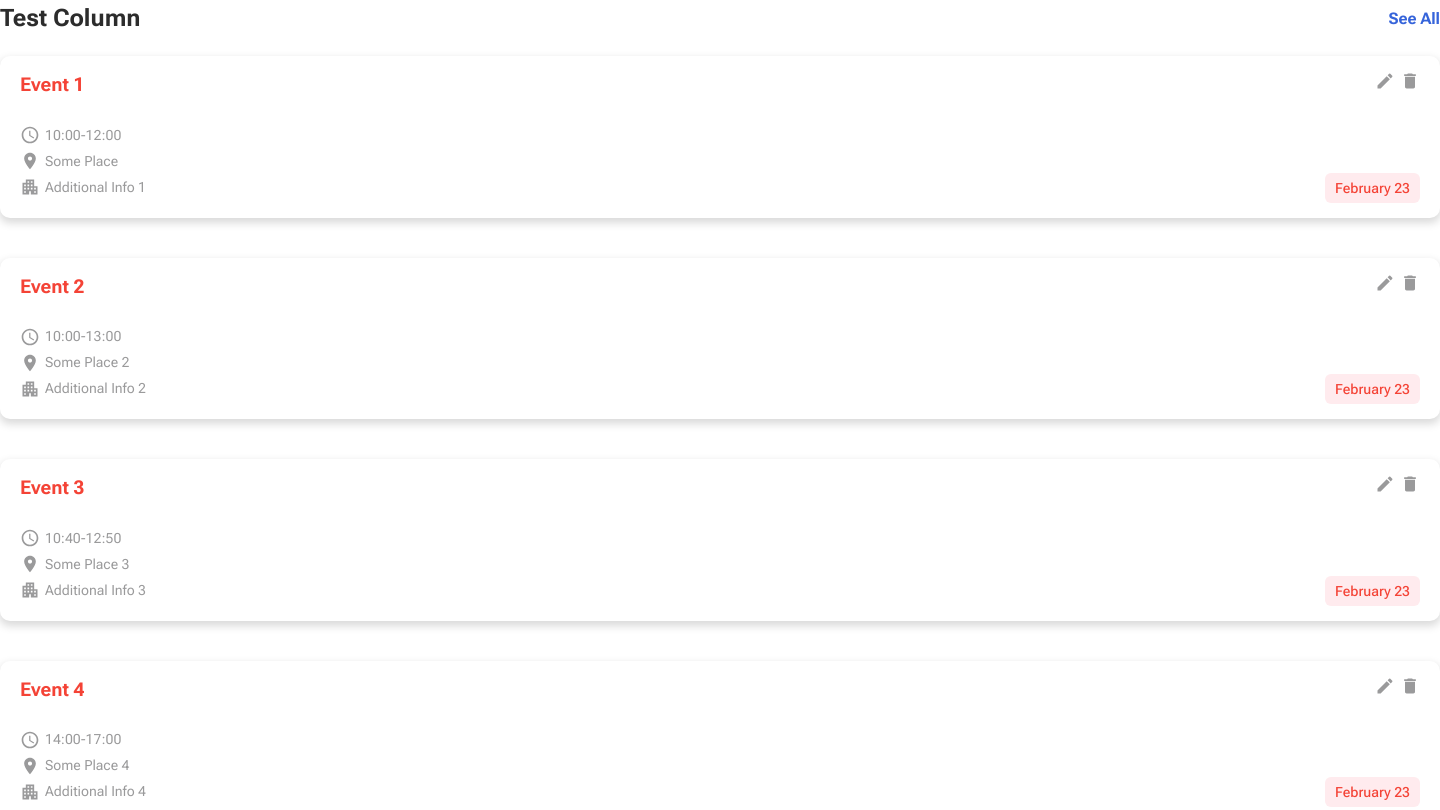
Scenario: EventListColumn › shows remove event modal when remove button is clicked
The width and height of the screenshot is (1440, 810).
Click the button with test id "remove-button-1". click: (1410, 81)
box: [1400,71,1420,91]
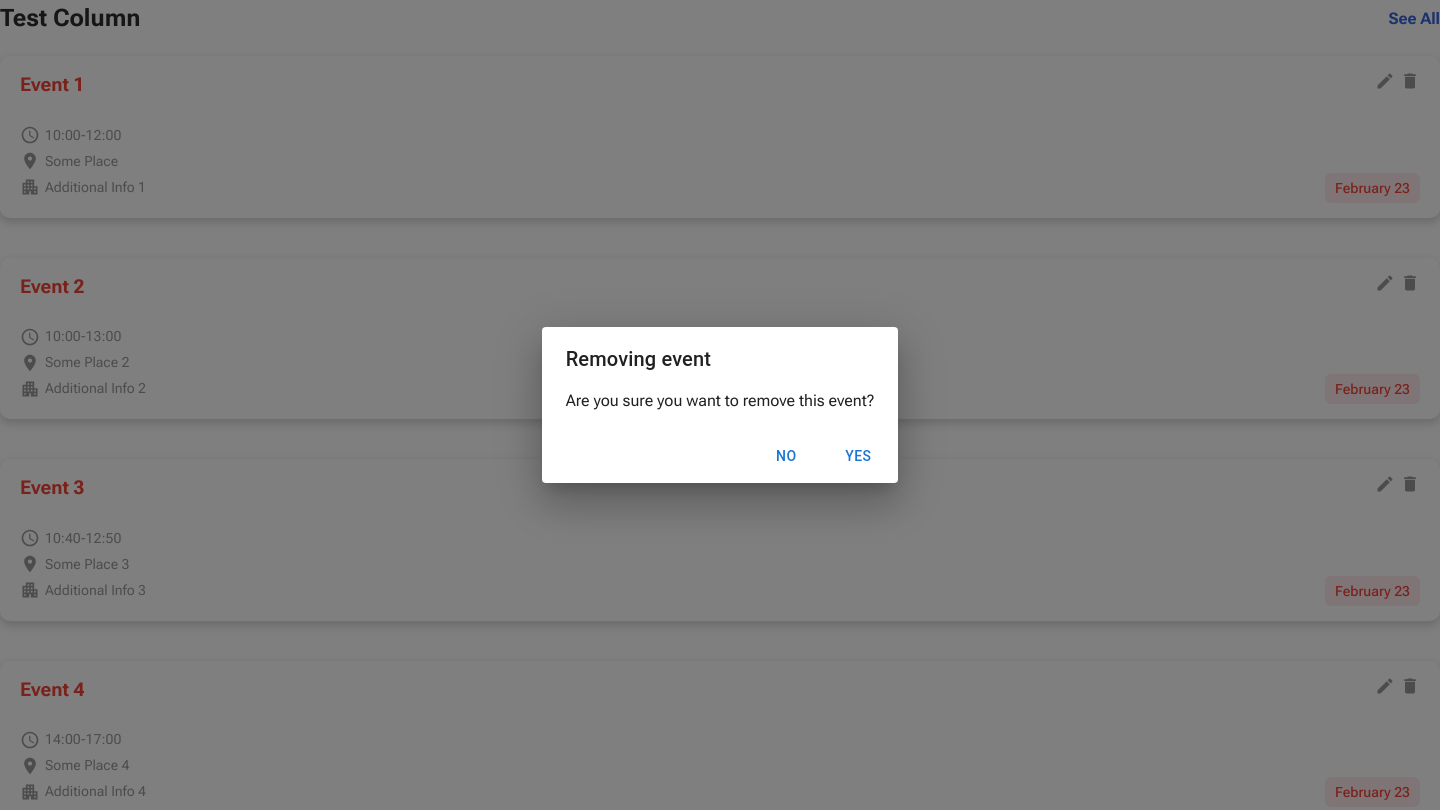
Now the text "Are you sure you want to remove this event?" is shown, box [566,391,874,410]
